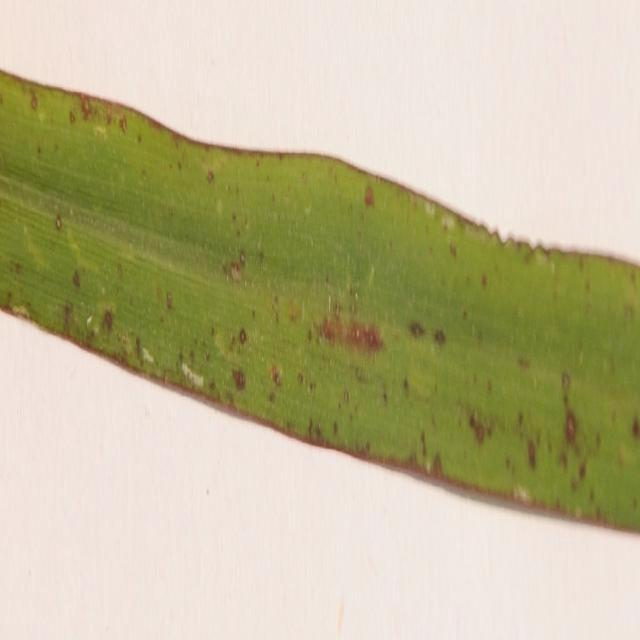Leafsmut: (206, 316, 260, 384), (316, 313, 385, 353), (147, 281, 179, 317), (228, 324, 250, 352), (563, 408, 580, 444), (180, 361, 204, 386), (487, 225, 510, 248), (361, 326, 383, 350), (619, 438, 637, 466), (116, 330, 134, 356), (344, 278, 362, 302), (468, 413, 485, 437), (78, 96, 94, 120), (430, 453, 444, 478), (62, 301, 74, 330), (526, 438, 537, 468), (362, 185, 376, 207), (11, 304, 31, 319), (232, 369, 246, 390), (286, 304, 302, 322), (364, 264, 376, 288), (513, 239, 531, 255), (102, 310, 115, 332), (560, 370, 572, 391), (134, 337, 144, 362), (409, 321, 424, 337), (504, 231, 520, 246), (141, 347, 155, 364), (421, 454, 433, 473), (419, 431, 428, 456), (433, 329, 447, 345), (522, 248, 536, 264), (622, 304, 635, 321), (311, 423, 323, 441), (94, 124, 108, 139), (534, 250, 548, 265), (269, 365, 280, 384), (0, 292, 9, 314), (443, 216, 457, 230), (517, 356, 532, 369), (230, 265, 242, 281), (631, 417, 640, 438), (71, 270, 81, 288), (326, 294, 334, 316), (4, 291, 14, 308), (36, 108, 48, 122), (119, 116, 128, 134), (29, 92, 38, 110), (238, 328, 248, 344), (490, 224, 501, 238), (578, 463, 587, 480), (215, 197, 224, 214), (166, 291, 174, 310), (424, 205, 436, 217), (238, 250, 247, 266), (115, 263, 124, 278), (449, 243, 457, 258), (206, 170, 215, 183), (54, 216, 62, 230), (69, 110, 77, 124), (342, 389, 350, 403), (257, 250, 265, 264), (402, 378, 410, 392), (13, 262, 23, 273), (512, 486, 521, 498), (85, 315, 94, 327), (574, 506, 583, 518), (481, 274, 488, 288), (549, 260, 556, 274), (304, 204, 312, 216), (332, 421, 338, 436), (268, 392, 276, 403), (297, 373, 304, 385), (354, 329, 362, 338), (176, 160, 183, 170), (136, 134, 142, 144), (36, 146, 42, 156), (231, 212, 237, 222), (68, 207, 74, 217), (354, 291, 359, 301)
